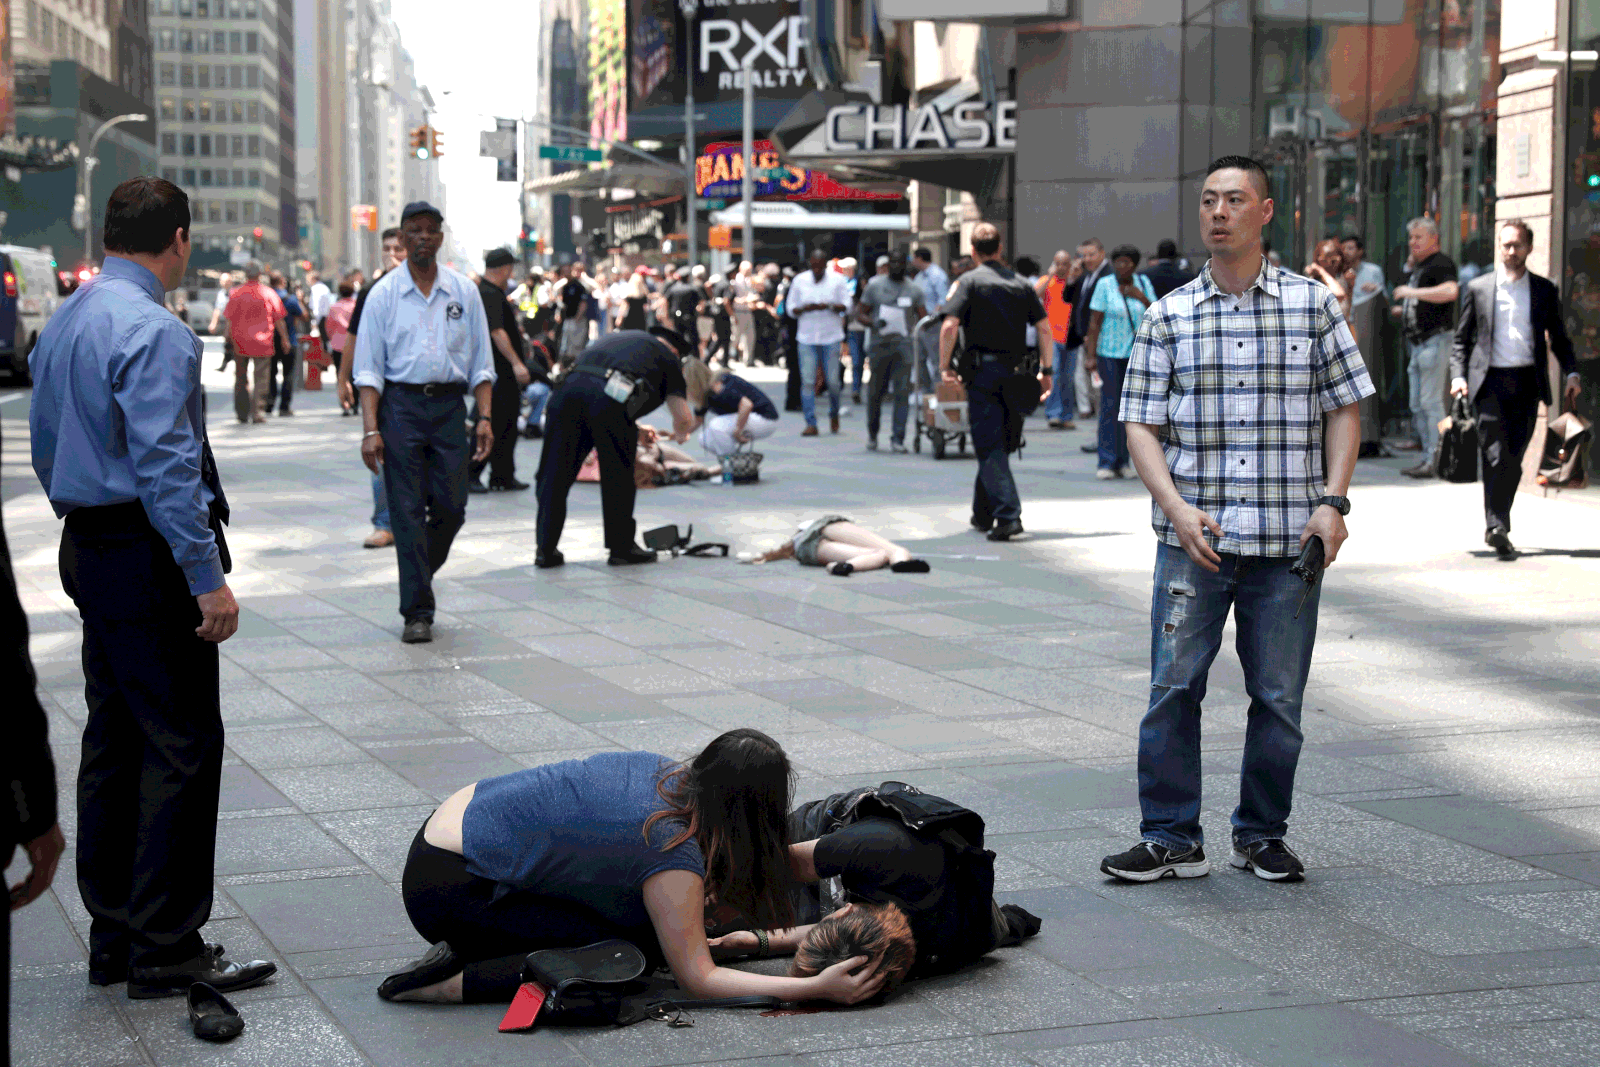Humano: (48, 166, 281, 1025), (398, 704, 781, 1002), (769, 795, 1036, 1011), (934, 213, 1045, 544), (393, 204, 474, 639), (570, 313, 688, 575), (758, 499, 931, 604), (477, 245, 531, 492), (227, 254, 276, 421), (277, 275, 305, 419), (725, 261, 756, 359), (561, 260, 592, 353), (323, 279, 358, 356), (671, 264, 698, 345), (619, 271, 648, 331), (375, 229, 403, 269)
